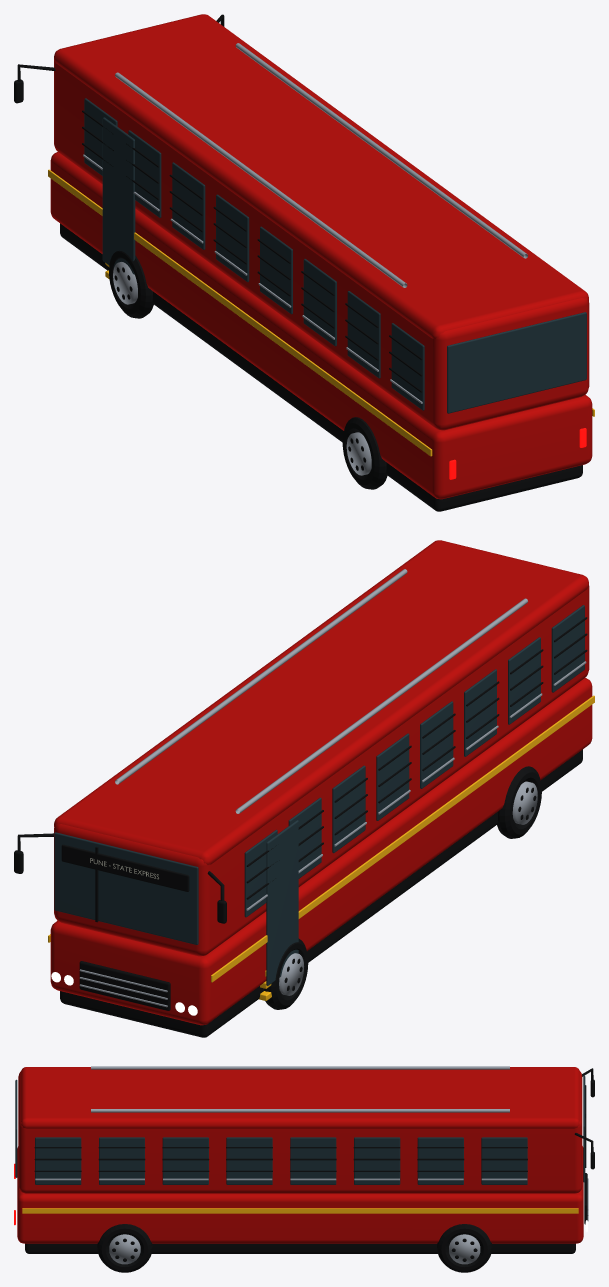
File: state-red-bus.glb
3 views of the same model, one above another, from view 1: azimuth 30°, elevation 25°; view 2: azimuth 150°, elevation 25°; view 3: azimuth 270°, elevation 25° (orthographic). The views are drawn at different scales.
Parts seen in each view (by area): view 1: Surface_Paint, Surface_Bus_glass, Surface_Bus_rubber, Surface_Bus_alloy, Surface_Yellow_livery, Bus_tire, Bus_tire.001, Bus_rim, Bus_rim.001; view 2: Surface_Paint, Surface_Bus_glass, Surface_Bus_rubber, Surface_Bus_alloy, Surface_Yellow_livery, Bus_tire, Bus_tire.001, Bus_rim, Bus_rim.001; view 3: Surface_Paint, Surface_Bus_glass, Surface_Bus_rubber, Surface_Bus_alloy, Surface_Yellow_livery, Bus_tire.002, Bus_tire.003, Bus_rim.003, Bus_rim.002.
Part boxes in pixels (x1,y1,x2,y2): Surface_Paint: [50, 14, 592, 499]; Surface_Bus_glass: [84, 98, 586, 413]; Surface_Bus_rubber: [14, 14, 582, 511]; Surface_Bus_alloy: [83, 43, 527, 403]; Surface_Yellow_livery: [48, 169, 594, 456]; Bus_tire: [342, 417, 387, 489]; Bus_tire.001: [109, 250, 153, 318]; Bus_rim: [346, 432, 371, 475]; Bus_rim.001: [113, 262, 137, 304]; Surface_Paint: [50, 540, 592, 1025]; Surface_Bus_glass: [54, 605, 584, 985]; Surface_Bus_rubber: [14, 617, 587, 1037]; Surface_Bus_alloy: [79, 569, 586, 1007]; Surface_Yellow_livery: [48, 695, 594, 1000]; Bus_tire: [497, 766, 541, 838]; Bus_tire.001: [264, 938, 308, 1009]; Bus_rim: [512, 781, 537, 824]; Bus_rim.001: [279, 953, 303, 995]; Surface_Paint: [17, 1067, 583, 1243]; Surface_Bus_glass: [15, 1075, 585, 1184]; Surface_Bus_rubber: [25, 1068, 594, 1253]; Surface_Bus_alloy: [35, 1066, 588, 1221]; Surface_Yellow_livery: [22, 1208, 578, 1213]; Bus_tire.002: [97, 1224, 152, 1272]; Bus_tire.003: [437, 1224, 492, 1272]; Bus_rim.003: [449, 1234, 480, 1264]; Bus_rim.002: [109, 1234, 140, 1264].
Bounding box in the file's own units: 3.27 × 3.2 × 10.67.
